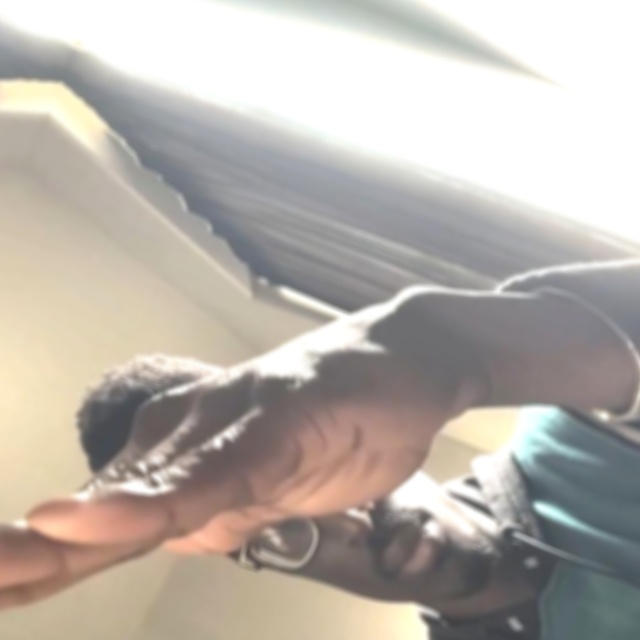Paper: (0, 0, 36, 601)
